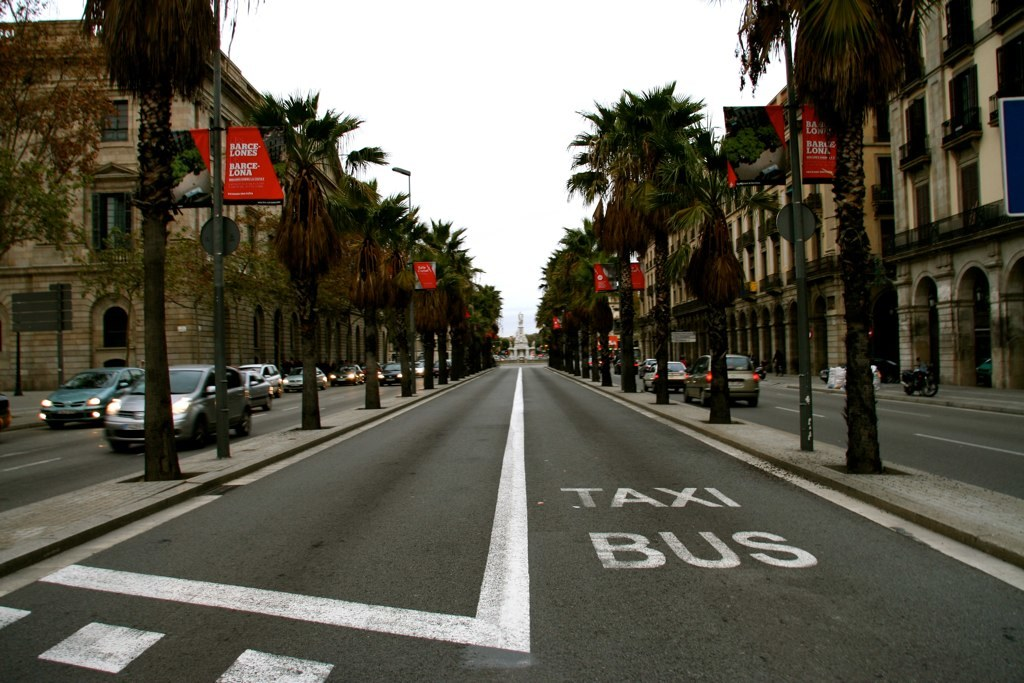mobil: (116, 367, 272, 454), (680, 351, 760, 409), (34, 374, 123, 422)
